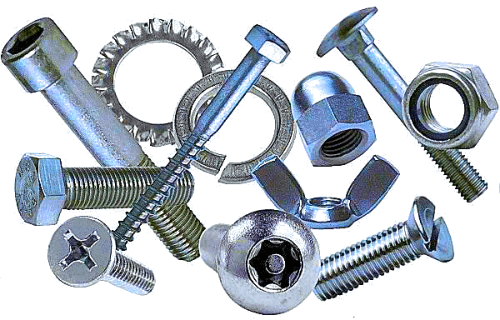carriage bolt: (313, 4, 490, 212)
hex bolt: (11, 147, 196, 229)
lag bolt: (97, 18, 294, 266)
machine screw: (302, 191, 464, 306), (43, 211, 158, 300)
